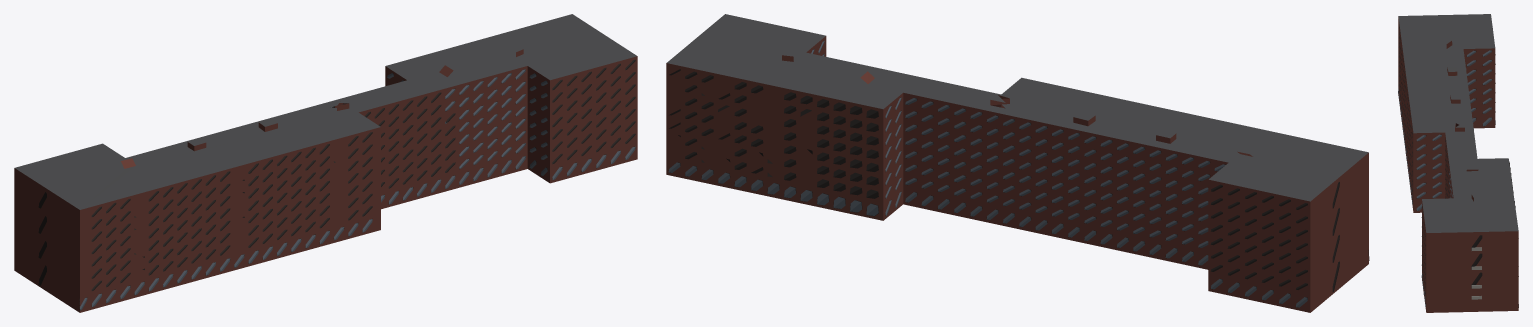
Rendered from bogortuin-101.lod1.glb.
3 renders of one model, left to right at view 1: azimuth 30°, elevation 25°; view 2: azimuth 150°, elevation 25°; view 3: azimuth 270°, elevation 25°, orthographic. The views are drawn at different scales.
Parts seen in each view (by area): view 1: bogortuin-101; view 2: bogortuin-101; view 3: bogortuin-101.
Boxes of the visible parts, x1,y1,x2,y2 form: bogortuin-101: (14, 14, 637, 312); bogortuin-101: (666, 14, 1369, 312); bogortuin-101: (1398, 14, 1518, 312).
Bounding box in the file's own units: 142 × 25.21 × 33.01.
